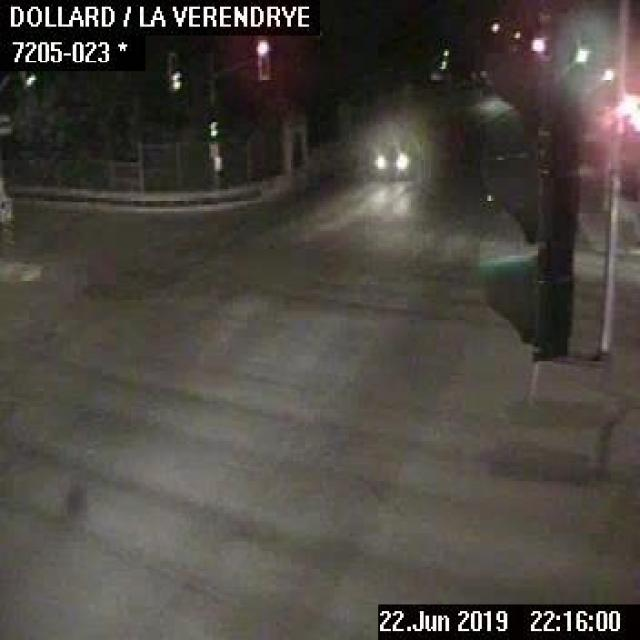vehicle: (373, 136, 414, 176)
